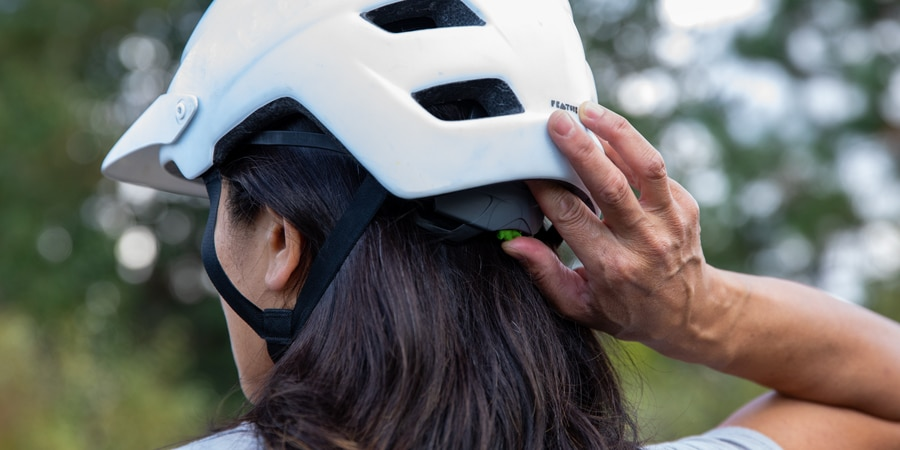helmet: (100, 1, 605, 407)
